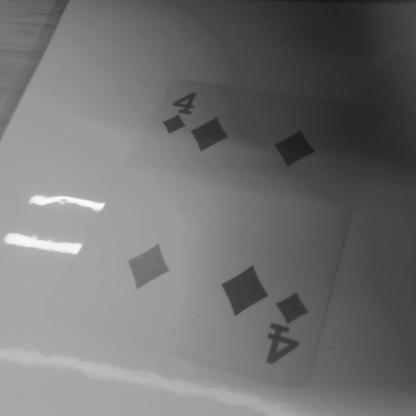4D: (252, 283, 315, 372), (144, 88, 209, 149)
